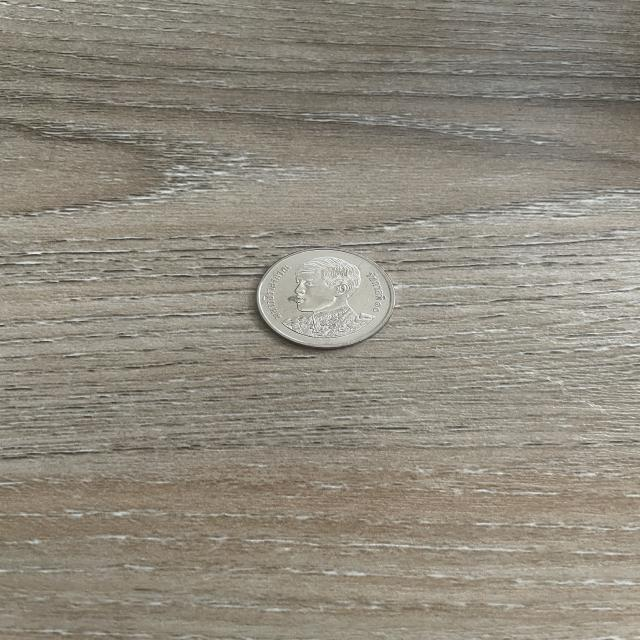1 Bath: (251, 240, 403, 358)
